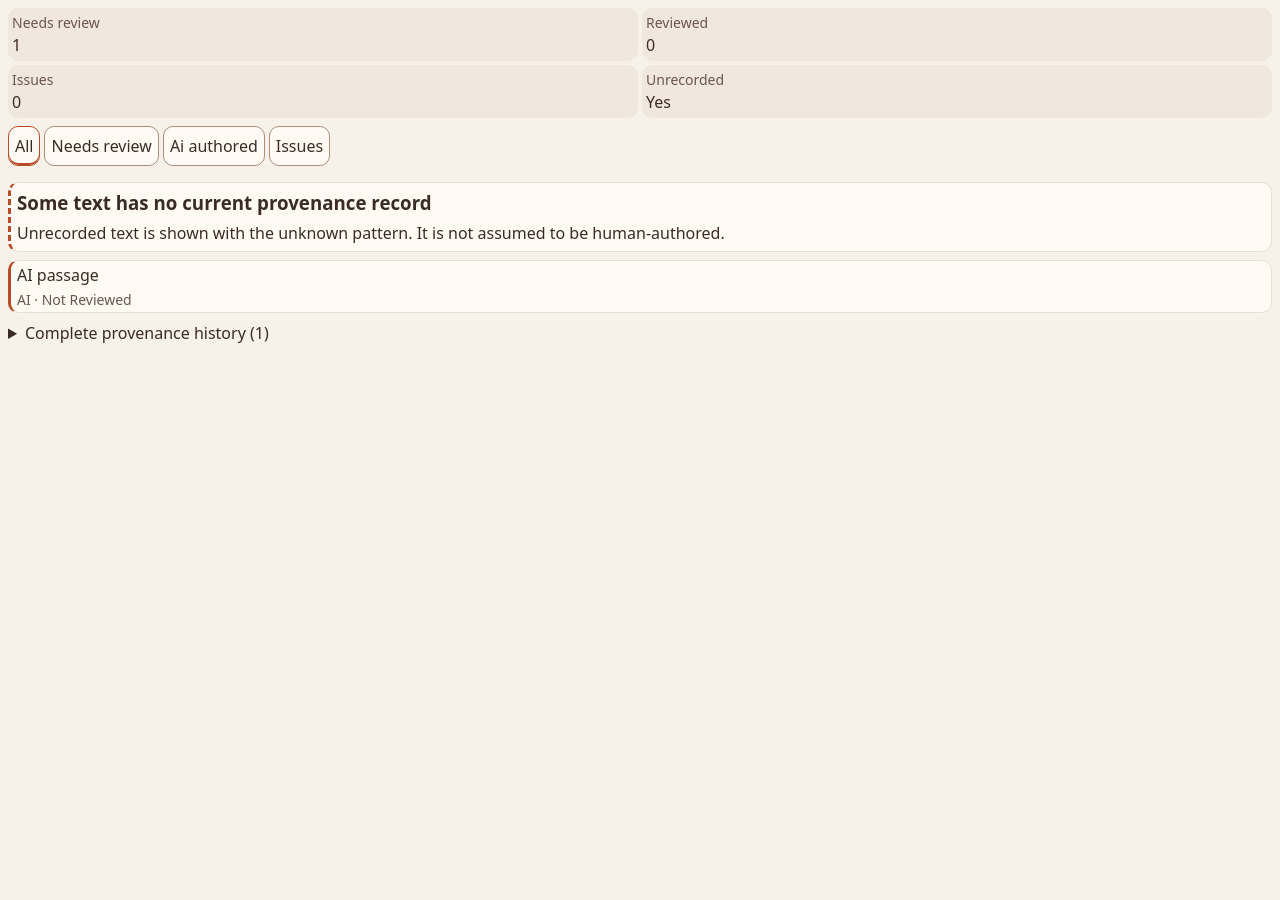
Test case: ProvenancePanel › blocks the write when a fresh pull introduces an incompatible overlap
This screenshot has width=1280, height=900.
Click the button "AI passage AI · not reviewed" at (58, 275), box [11,261,1271,312]
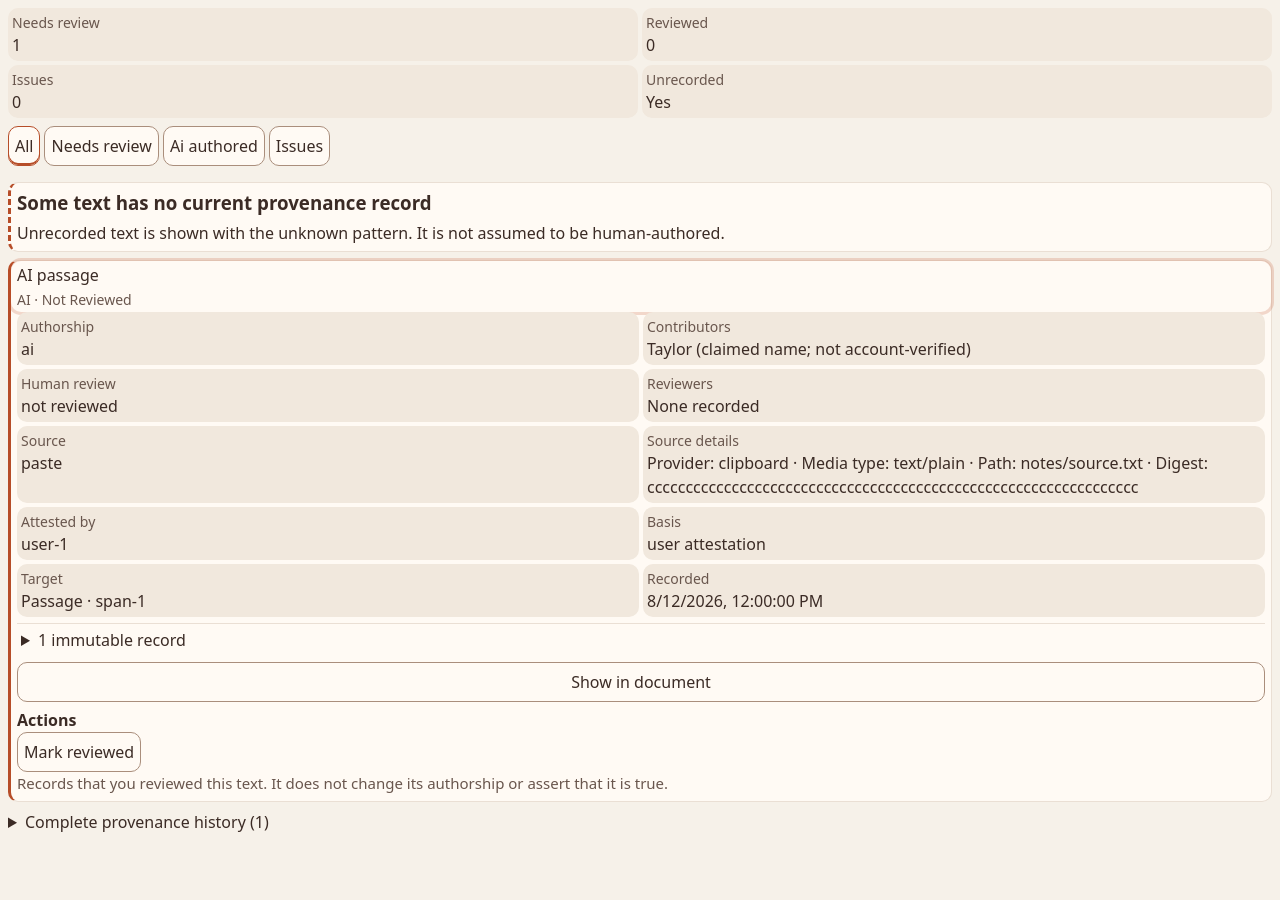
Click the button "Mark reviewed" at (79, 752), box [17,732,141,772]
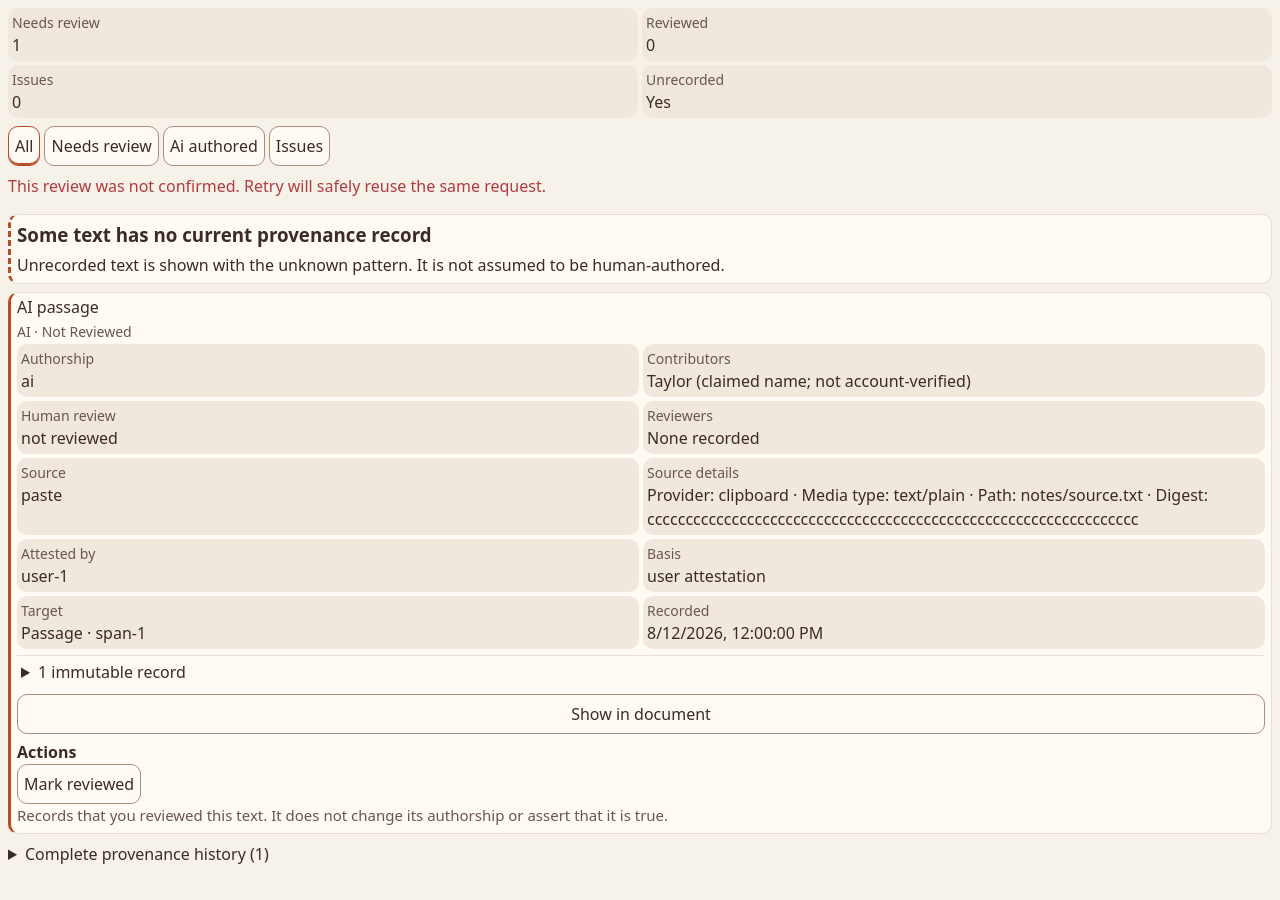
Expected: the message "This review was not confirmed. Retry will safely reuse the same request." is shown, [8,175,546,197]
